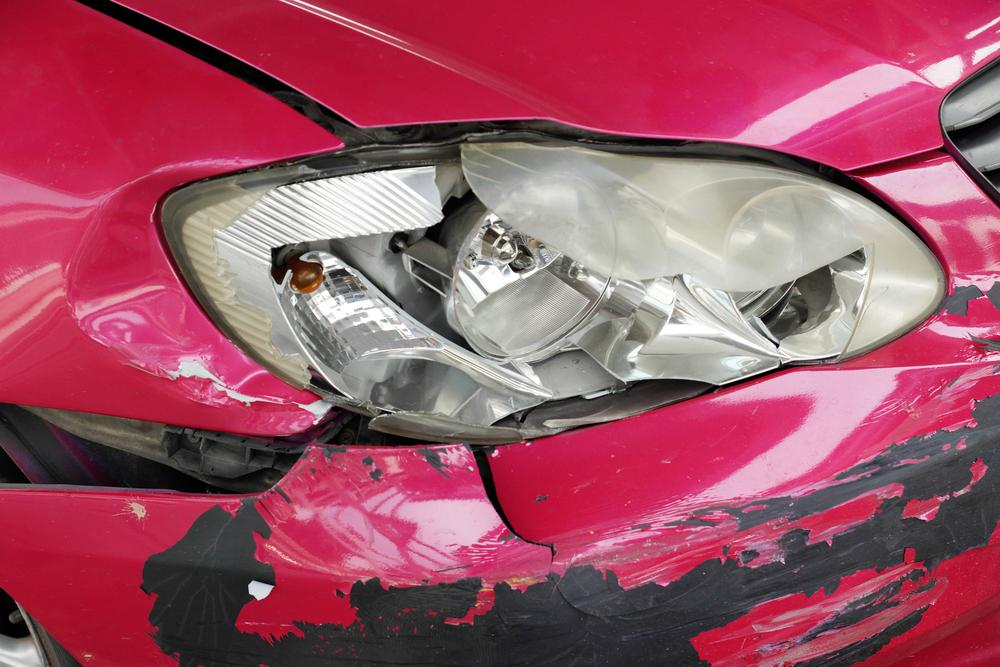crack: (461, 449, 552, 554)
dent: (66, 163, 315, 411)
lamp broken: (154, 138, 942, 445)
scratch: (134, 268, 1000, 667)
